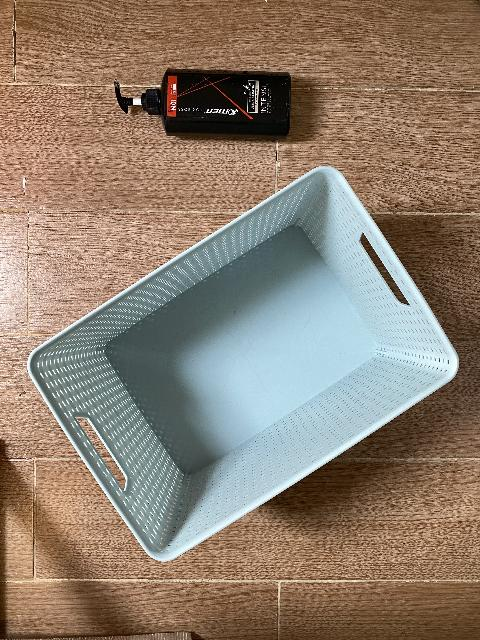X-men: (113, 68, 291, 140)
cart: (26, 166, 459, 565)
